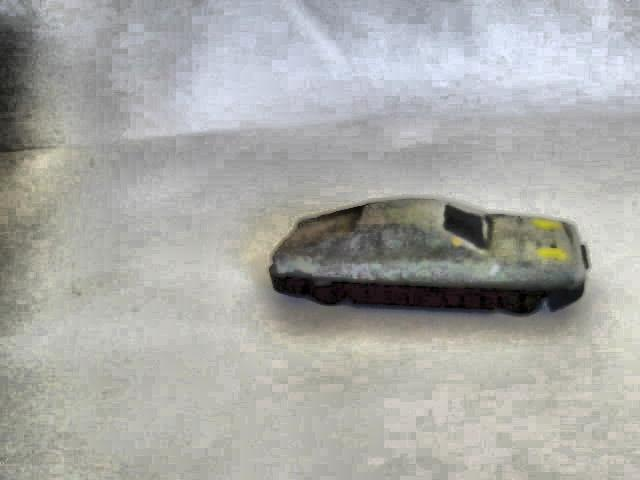normal_car: (265, 195, 593, 317)
